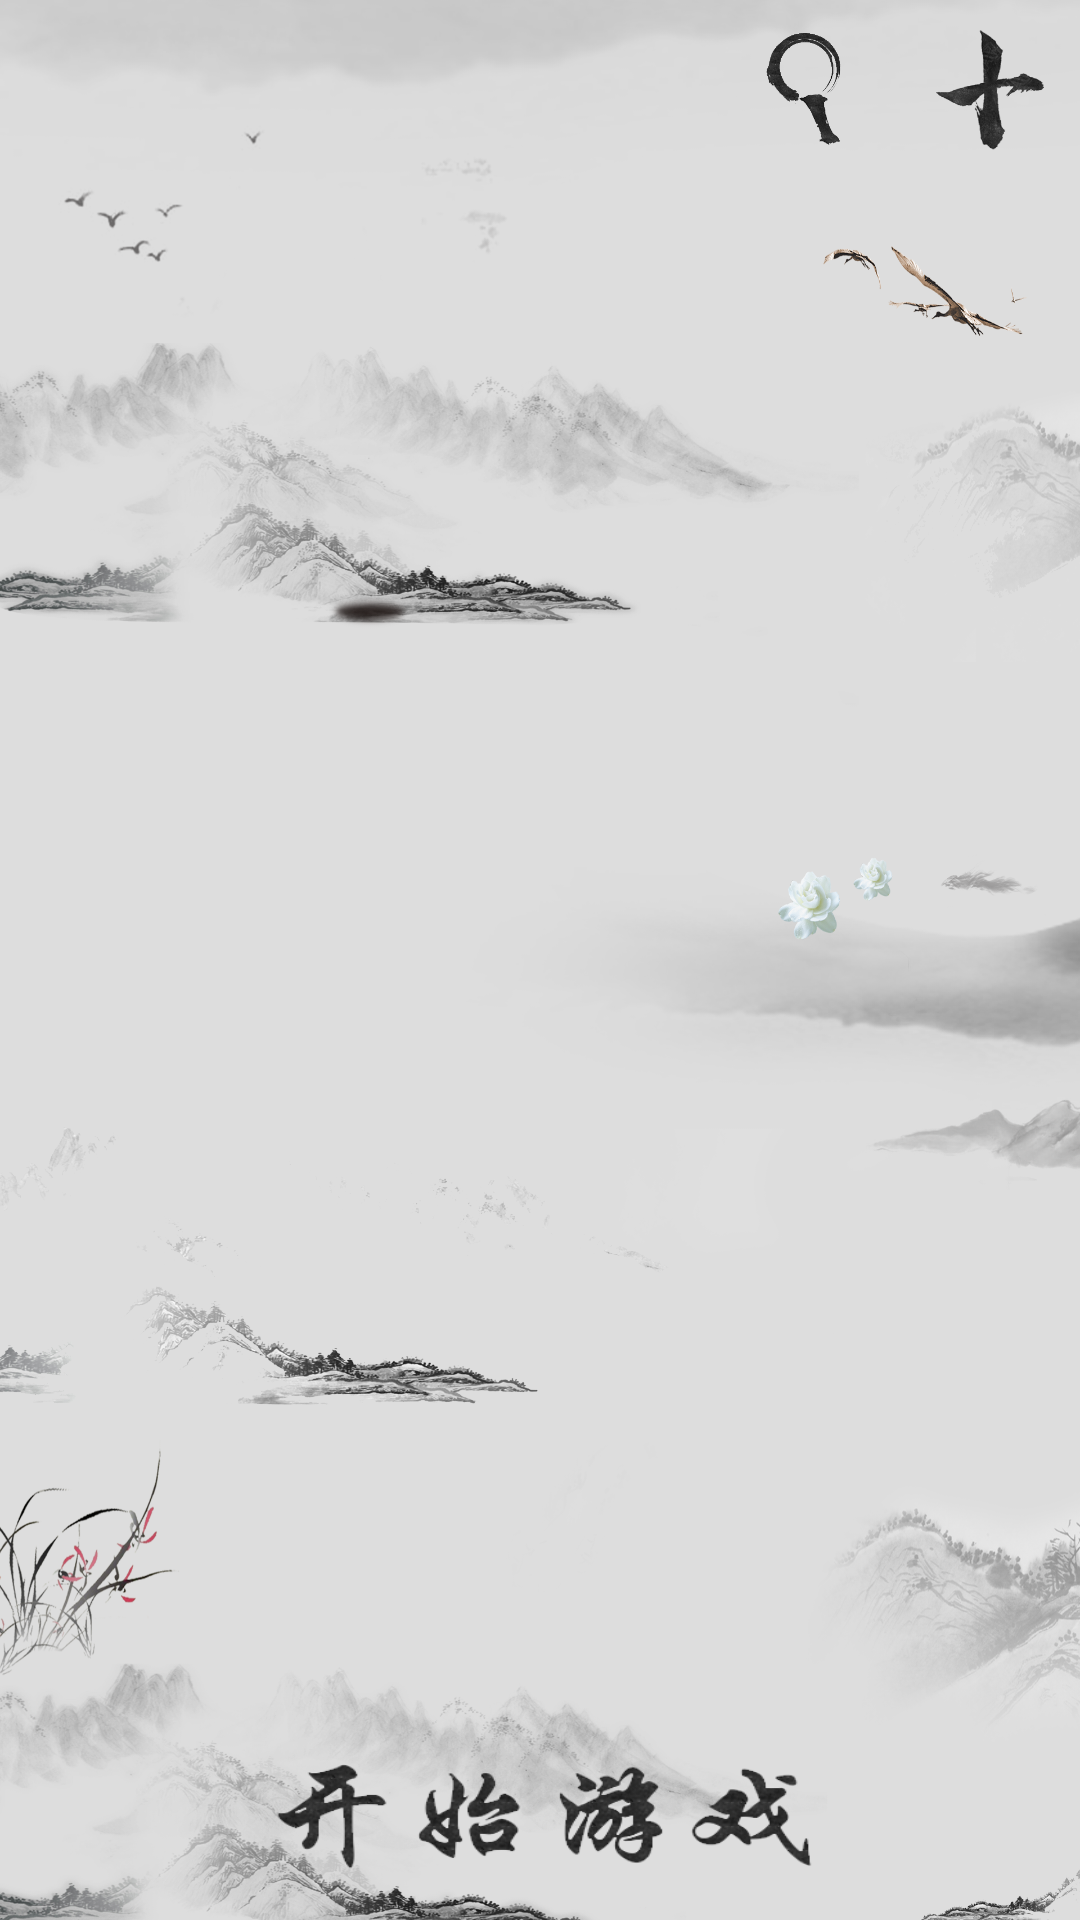

Where to tap for icons on this 1080 × 1920 app screen, as [x,y]:
add: [990,90]
search: [803,89]
